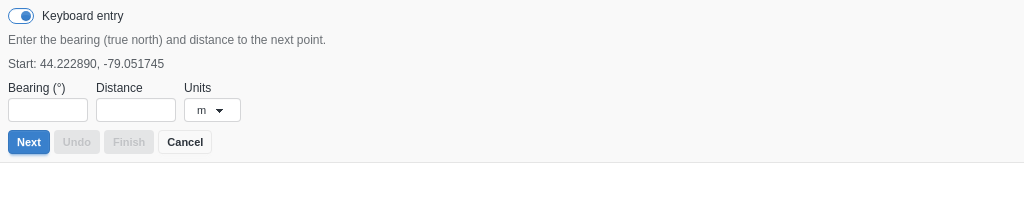
Test: MyMapsTextEntry › shows an error for a bearing outside 0 to 360
This screenshot has width=1024, height=204.
Type "400" into the field labelled "Bearing (°)". click: (48, 110)
box: left=8, top=98, right=88, bottom=122
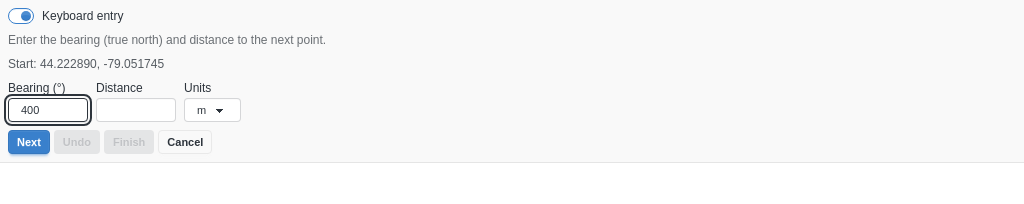
Type "100" into the field labelled "Distance". click: (136, 110)
box: left=96, top=98, right=176, bottom=122
Then press Enter
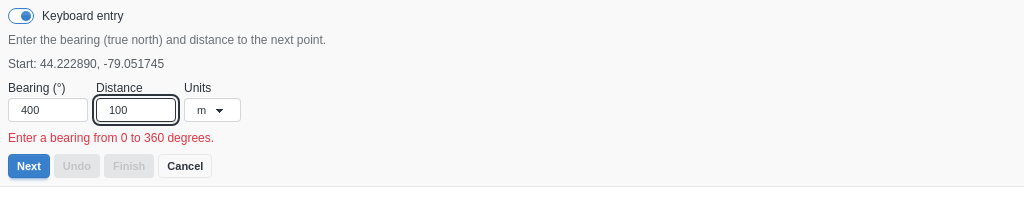
Now the message reads "Enter a bearing from 0 to 360 degrees.", box left=8, top=131, right=214, bottom=145
